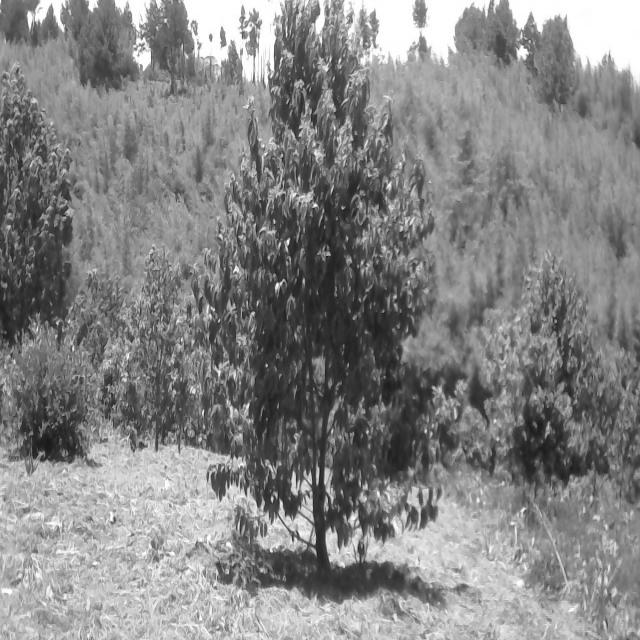Dombeya torrida: (0, 64, 78, 319)
Olea europea -africana-: (8, 318, 95, 454)
Prunus Africana: (179, 0, 450, 553), (515, 240, 620, 427), (225, 373, 227, 375)
